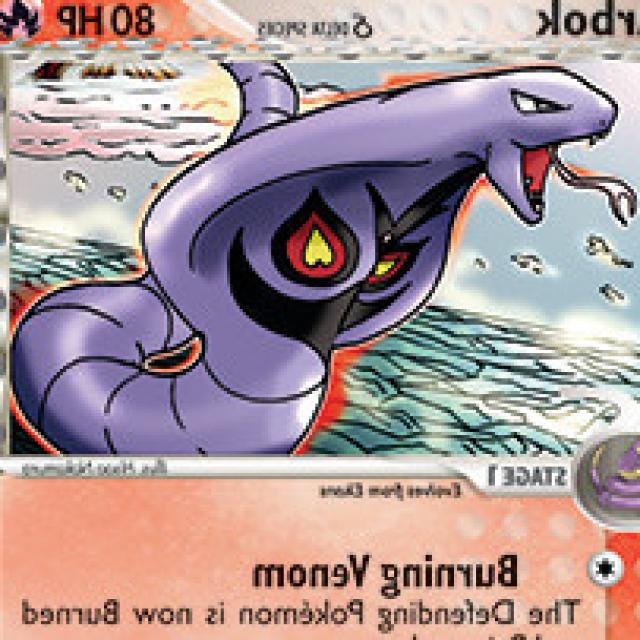Arbok: (130, 68, 617, 456)
